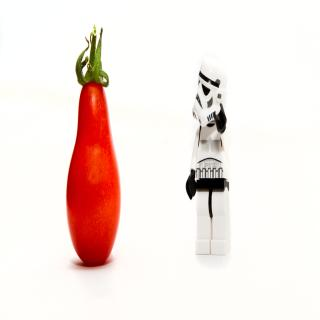tomato: (65, 26, 121, 267)
